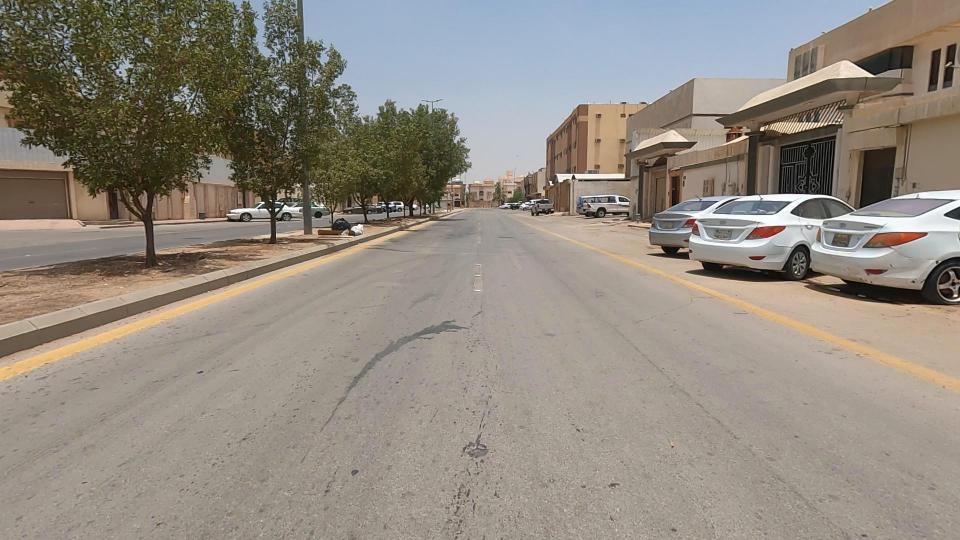GARBAGE: (293, 194, 396, 260)
